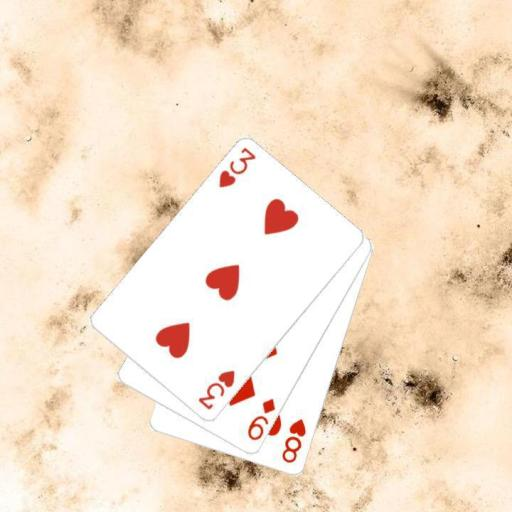card-corner: (216, 144, 258, 190), (195, 367, 237, 412), (244, 396, 277, 442), (279, 416, 308, 465)
